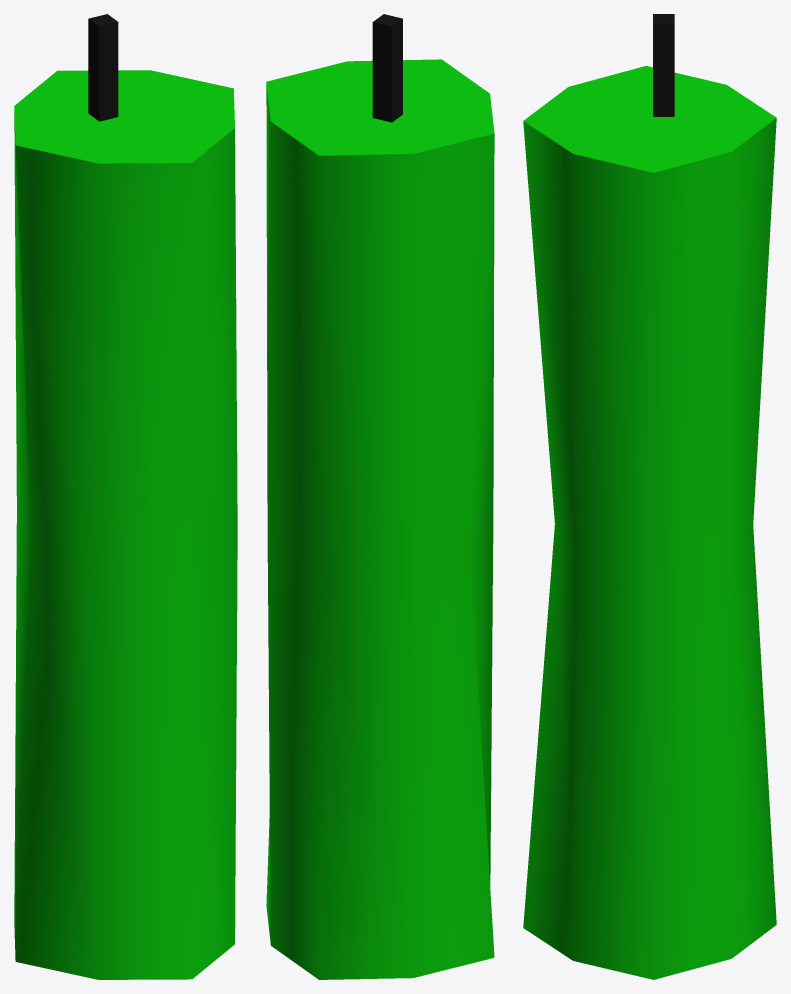
File: candleStickGreen.gltf
3 renders of one model, left to right at view 1: azimuth 30°, elevation 25°; view 2: azimuth 150°, elevation 25°; view 3: azimuth 270°, elevation 25°, orthographic. The views are drawn at different scales.
Visible parts, largest first — view 1: bougie1, Cube; view 2: bougie1, Cube; view 3: bougie1, Cube.
Part boxes in pixels (left/top/right/bottom): bougie1: left=14, top=70, right=237, bottom=979; Cube: left=88, top=14, right=118, bottom=121; bougie1: left=266, top=59, right=494, bottom=979; Cube: left=372, top=14, right=402, bottom=122; bougie1: left=523, top=66, right=776, bottom=979; Cube: left=653, top=14, right=674, bottom=116.
Bounding box in the file's own units: 0.0234 × 0.0916 × 0.0234.
